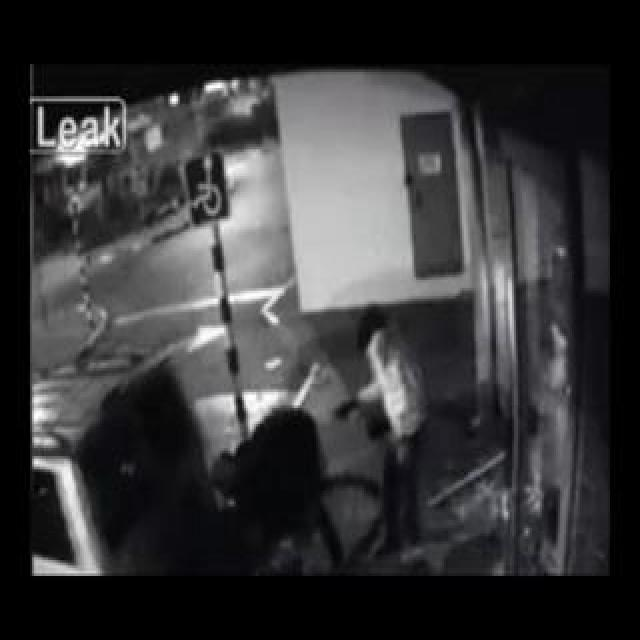thief: (309, 301, 470, 448), (212, 382, 282, 518)
